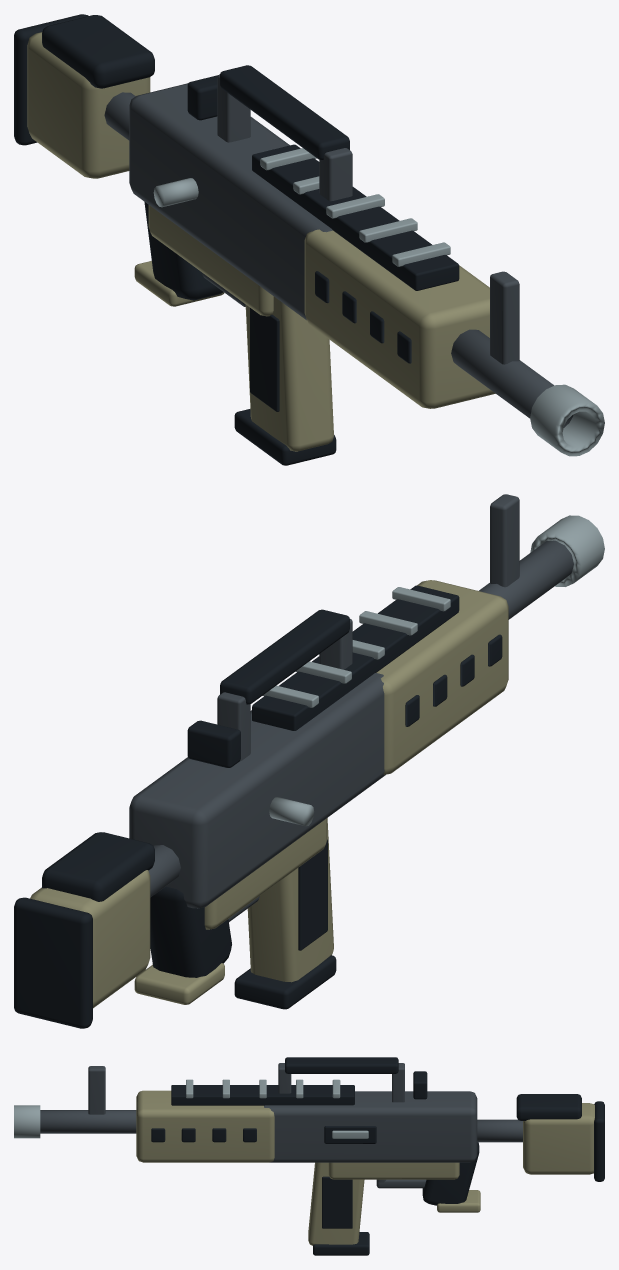
3 renders of one model, top to bottom at view 1: azimuth 30°, elevation 25°; view 2: azimuth 150°, elevation 25°; view 3: azimuth 270°, elevation 25°, orthographic. The views are drawn at different scales.
Visible parts, largest first — view 1: m16_m16 painted furniture, m16_Cerakote graphite, m16_Recesses and rubber, m16_Machined edges; view 2: m16_Recesses and rubber, m16_Cerakote graphite, m16_m16 painted furniture, m16_Machined edges; view 3: m16_Cerakote graphite, m16_m16 painted furniture, m16_Recesses and rubber, m16_Machined edges.
Boxes of the visible parts, <box> form: m16_m16 painted furniture: <box>27,32,495,451</box>; m16_Cerakote graphite: <box>104,74,573,427</box>; m16_Recesses and rubber: <box>14,14,459,465</box>; m16_Machined edges: <box>153,148,604,456</box>; m16_Recesses and rubber: <box>14,585,502,1028</box>; m16_Cerakote graphite: <box>129,494,573,921</box>; m16_m16 painted furniture: <box>30,580,508,1008</box>; m16_Machined edges: <box>262,515,604,826</box>; m16_Cerakote graphite: <box>40,1063,522,1188</box>; m16_m16 painted furniture: <box>136,1090,594,1245</box>; m16_Recesses and rubber: <box>151,1057,604,1255</box>; m16_Machined edges: <box>14,1079,368,1138</box>.
Bounding box in the file's own units: 0.1624 × 0.4289 × 1.22.
